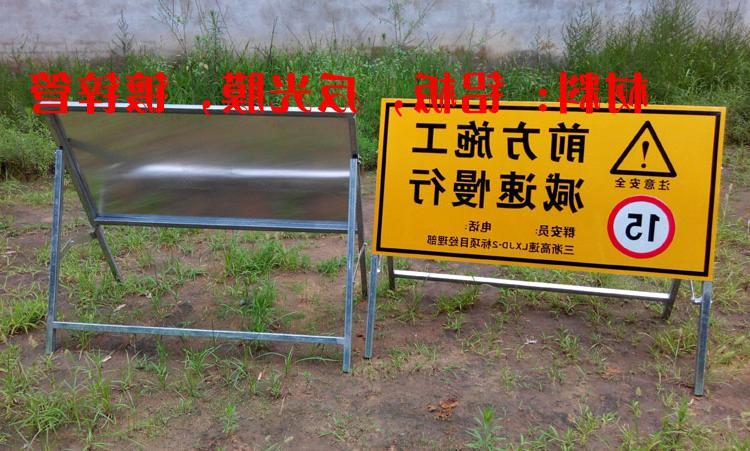sign: (372, 100, 724, 273)
